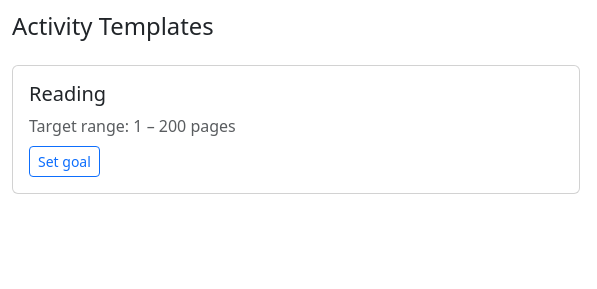
Scenario: F-03 Goal setting UI › TEST-UI-05: participant sets a goal from a published template
Step 1. Click the button "Set goal" → (64,161), box [29,146,100,177]
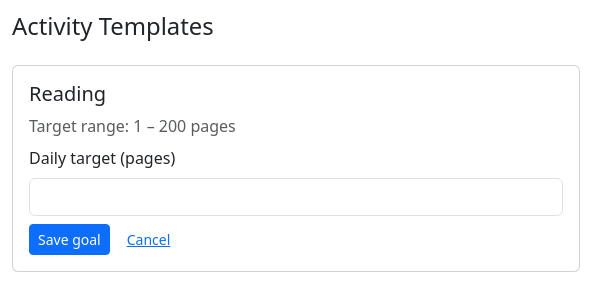
Step 2. Type "20" into the number field labelled "Daily target (pages)" → (296,197), box [29,178,563,216]
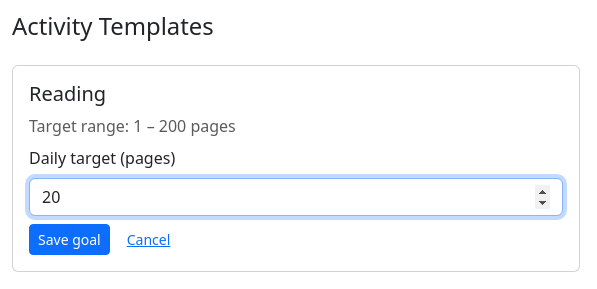
Step 3. Click the button "Save goal" → (69,239), box [29,224,110,255]
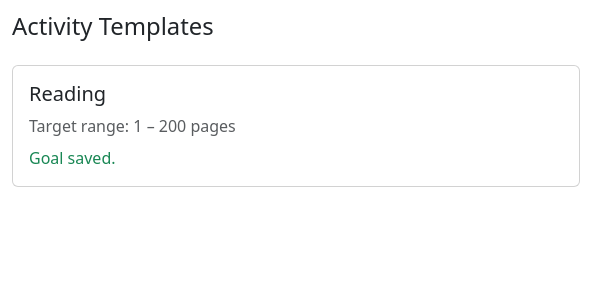
Result: the text "Goal saved." is shown at [29,147,116,169]
